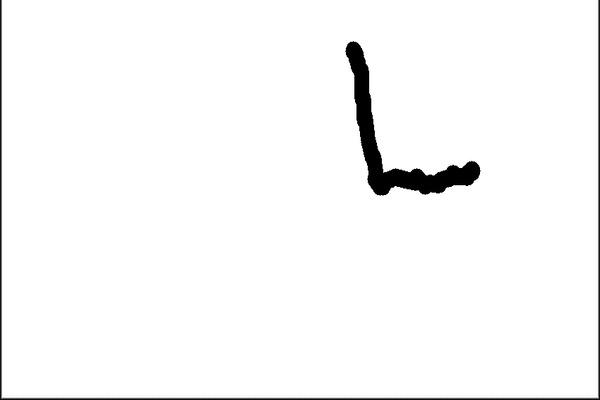L: (336, 30, 486, 201)
